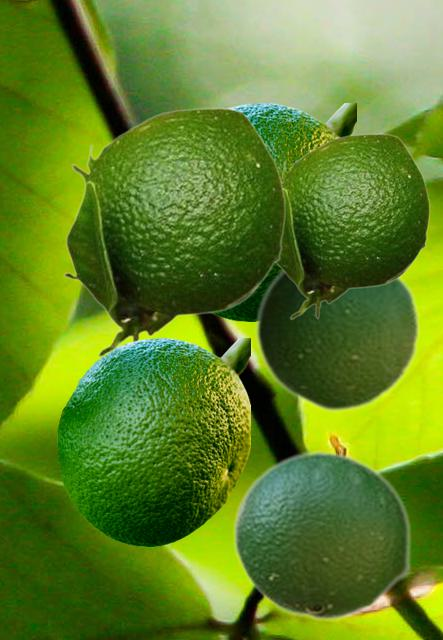dalandan: (62, 107, 285, 357), (57, 338, 249, 545), (211, 103, 355, 320), (232, 450, 411, 621), (276, 133, 429, 319), (254, 269, 420, 413)
